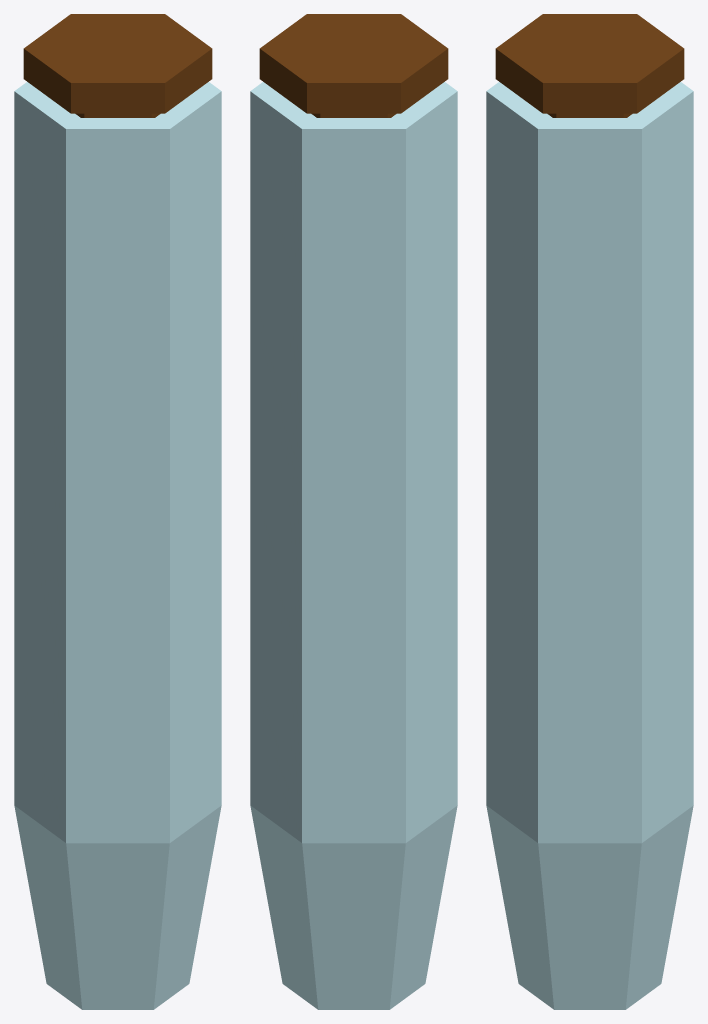
The model's file is Potion2.fbx.
The picture shows the model from 3 angles, left to right: view 1: azimuth 30°, elevation 25°; view 2: azimuth 150°, elevation 25°; view 3: azimuth 270°, elevation 25°; orthographic projection.
Visible parts, largest first — view 1: Potion4; view 2: Potion4; view 3: Potion4.
Part boxes in pixels (box(x1,y1,x2,y2)): Potion4: box(14, 14, 221, 1009); Potion4: box(250, 14, 457, 1009); Potion4: box(486, 14, 693, 1009).
Bounding box in the file's own units: 3.46 × 19.91 × 4.
